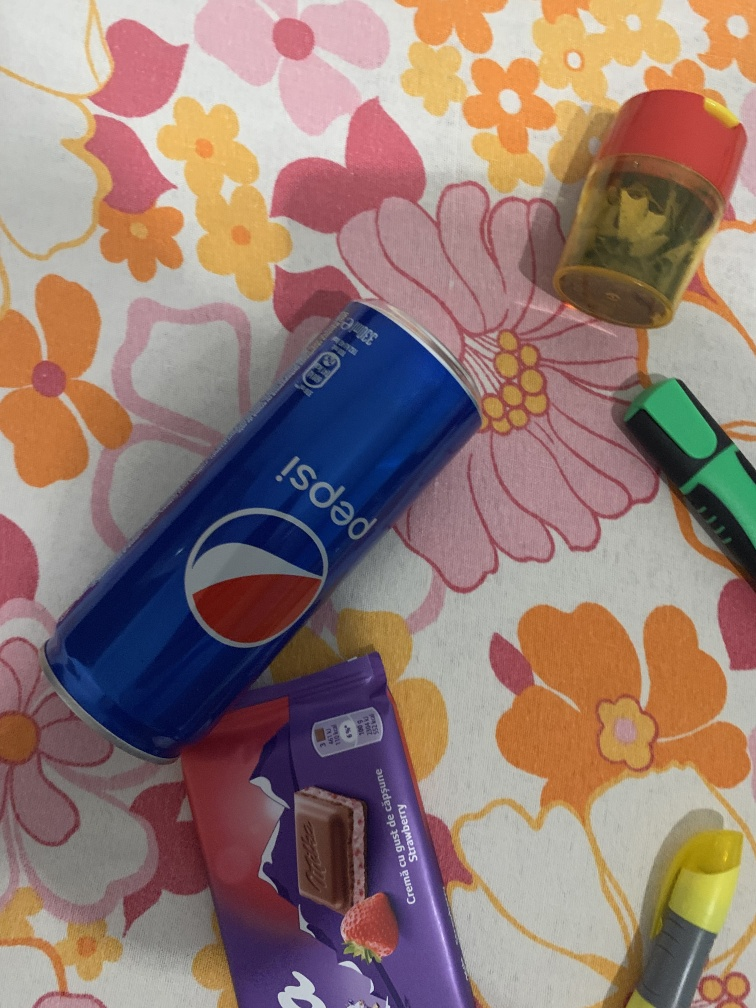milka: (145, 647, 490, 1008)
pepsi: (43, 294, 486, 742)
